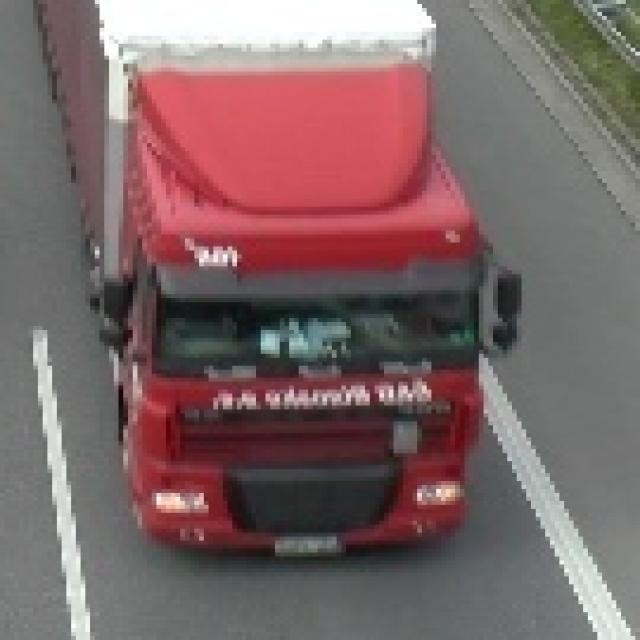truck: (33, 0, 517, 557)
